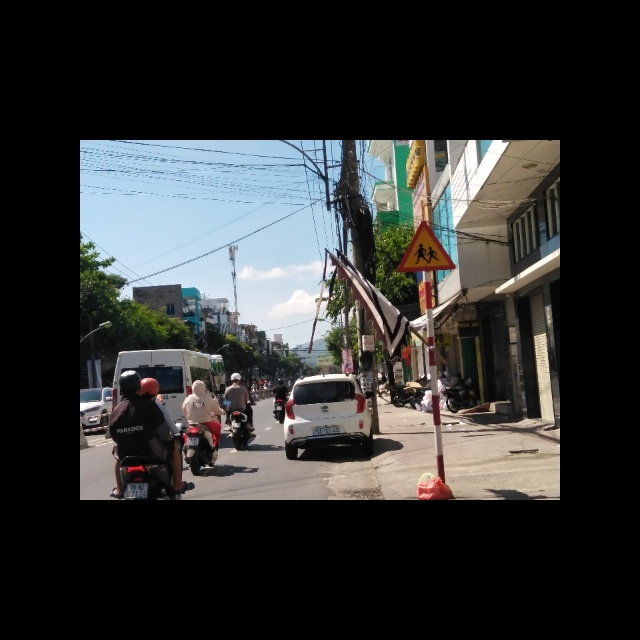Trẻ em ngang qua: (392, 219, 456, 273)
